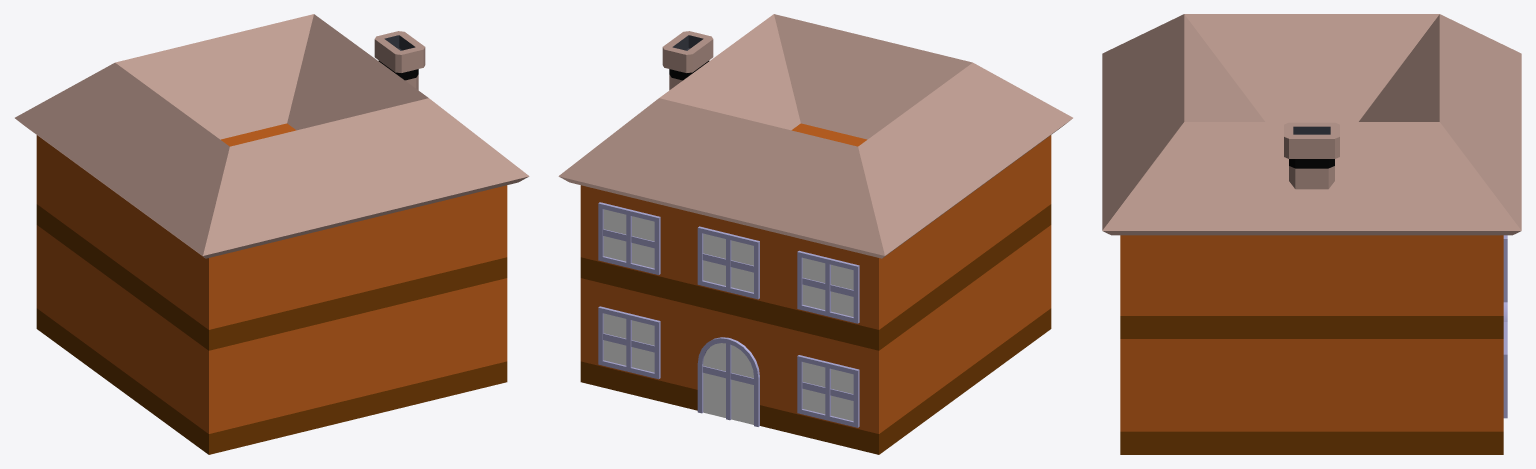
File: small_house_orange.fbx
3 renders of one model, left to right at view 1: azimuth 30°, elevation 25°; view 2: azimuth 150°, elevation 25°; view 3: azimuth 270°, elevation 25°, orthographic. The views are drawn at different scales.
Parts seen in each view (by area): view 1: mergedBlocks; view 2: mergedBlocks; view 3: mergedBlocks.
Boxes of the visible parts, box(x1,y1,x2,y2) form: mergedBlocks: box(15, 14, 529, 454); mergedBlocks: box(558, 14, 1072, 454); mergedBlocks: box(1102, 14, 1521, 454).
Size of the model in its own units: 32.83 by 27 by 32.83.
